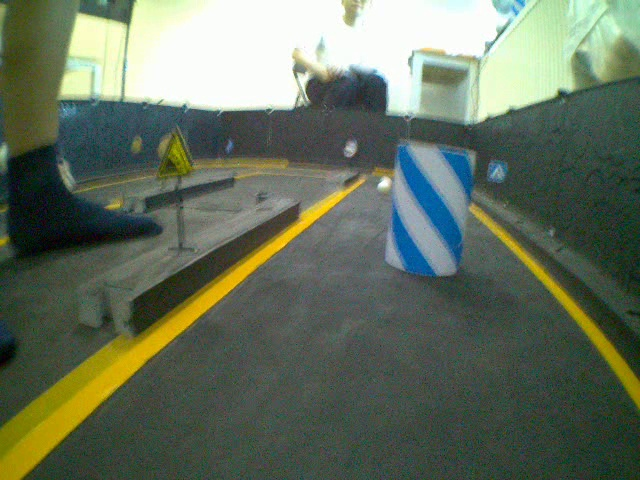bucket: (387, 136, 468, 278)
